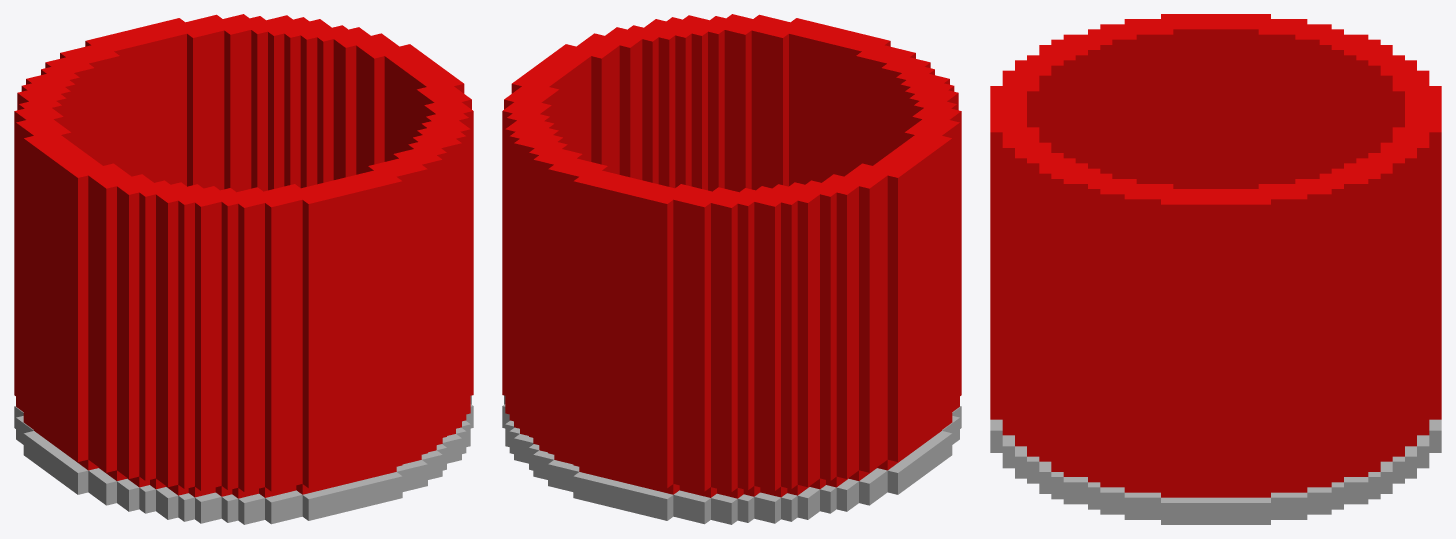
The model's file is can.obj.
The picture shows the model from 3 angles, left to right: view 1: azimuth 30°, elevation 25°; view 2: azimuth 150°, elevation 25°; view 3: azimuth 270°, elevation 25°; orthographic projection.
Bounding box in the file's own units: 37 × 29 × 37.
1 material, 1 textured.
